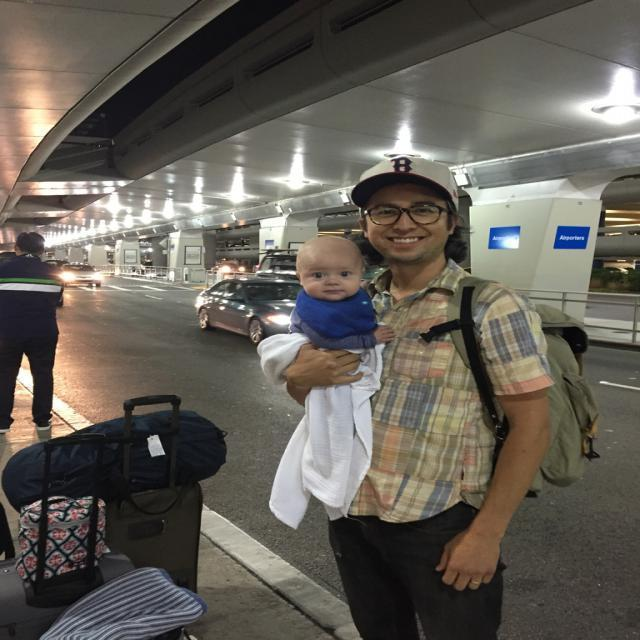closed-mouth: (321, 286, 346, 296)
